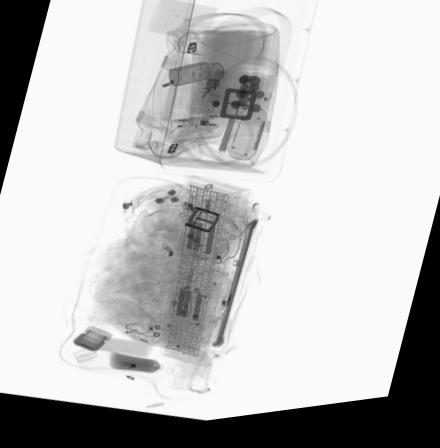Lighter: (197, 98, 218, 134)
